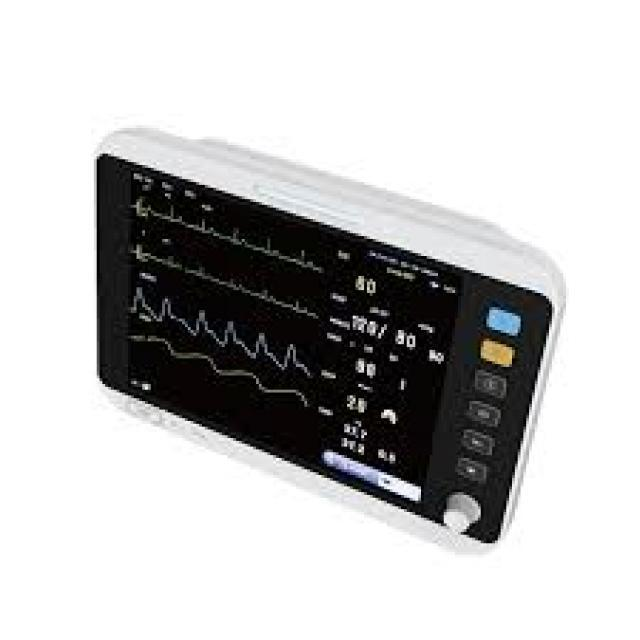cardiac_monitor: (101, 137, 530, 533)
